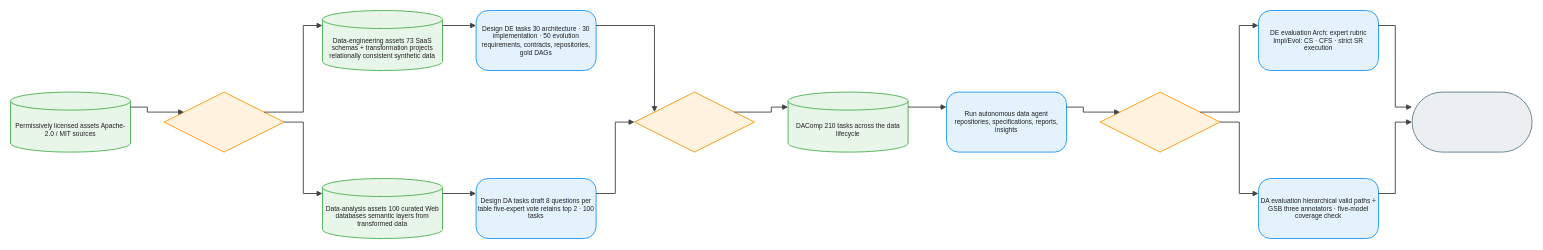
Some shapes in this 1543 by 250 pixel diagram are drawn without their labels. The box of each missing label's shape, as (x1, y1, x2, y2) in pixels:
Eight-expert quality control realism · quality · consistency: (634, 91, 755, 152)
Hybrid benchmark report component, orchestration, and open-ended quality: (1411, 91, 1532, 152)
Route by task type: (1099, 91, 1220, 152)
Two enterprise workflows: (163, 91, 284, 152)
